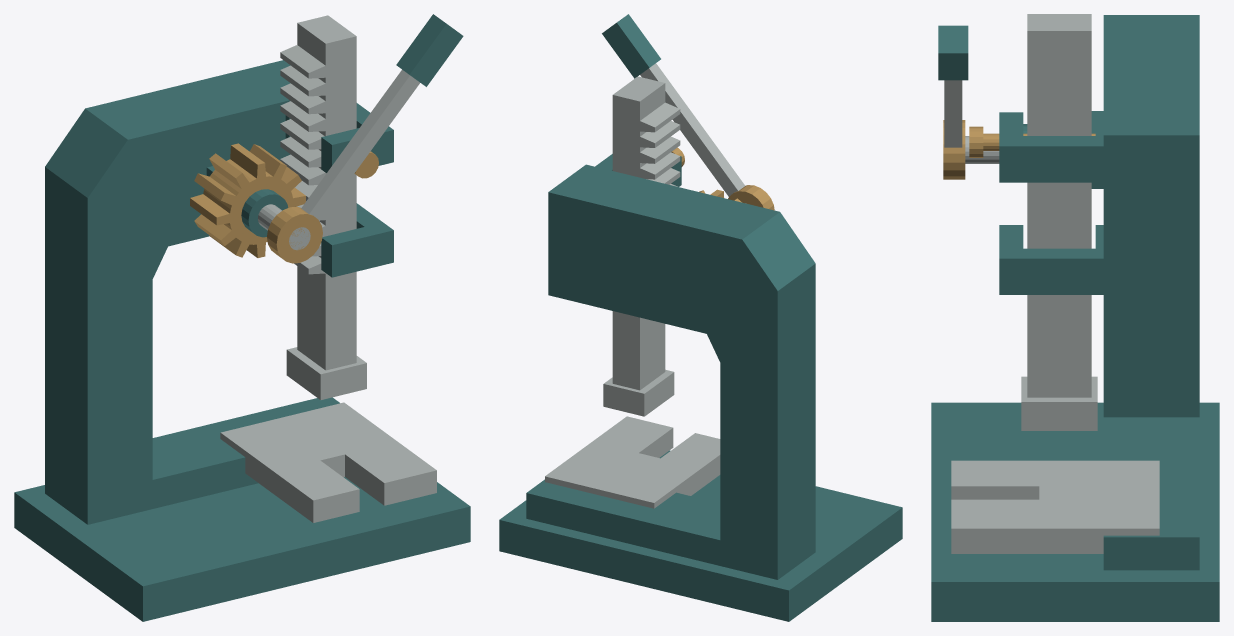
3 renders of one model, left to right at view 1: azimuth 30°, elevation 25°; view 2: azimuth 150°, elevation 25°; view 3: azimuth 270°, elevation 25°, orthographic. The views are drawn at different scales.
Parts seen in each view (by area): view 1: WholeOpenThroatCCasting, WholeGroundedPressFoot, WholeIntegralToothedVerticalRam, WholeSlottedLowerAnvil, WholeTwelveToothPinion, WholeLongFixedActuatingHandle, LowerWholeOpenRamGuide, WholeFlatRamNose, WholeLongHandleGrip, WholeLeverHub, UpperWholeOpenRamGuide, WholeFrontBearingCollar (+1 smaller); view 2: WholeOpenThroatCCasting, WholeGroundedPressFoot, WholeSlottedLowerAnvil, WholeIntegralToothedVerticalRam, WholeLongFixedActuatingHandle, WholeFlatRamNose, WholeLongHandleGrip, WholeLeverHub; view 3: WholeOpenThroatCCasting, WholeGroundedPressFoot, WholeIntegralToothedVerticalRam, WholeSlottedLowerAnvil, LowerWholeOpenRamGuide, UpperWholeOpenRamGuide, WholeFlatRamNose, WholeLongHandleGrip, WholeLongFixedActuatingHandle, WholeLeverHub, WholeRamRetainingPinFrontCap, WholePinionAxle.
Boxes of the visible parts, x1,y1,x2,y2 form: WholeOpenThroatCCasting: (45, 60, 339, 524); WholeGroundedPressFoot: (14, 477, 470, 621); WholeIntegralToothedVerticalRam: (280, 15, 356, 370); WholeSlottedLowerAnvil: (220, 402, 436, 522); WholeTwelveToothPinion: (190, 143, 305, 257); WholeLongFixedActuatingHandle: (301, 69, 419, 221); LowerWholeOpenRamGuide: (321, 203, 393, 277); WholeFlatRamNose: (286, 347, 366, 399); WholeLongHandleGrip: (396, 14, 463, 86); WholeLeverHub: (267, 206, 322, 263); UpperWholeOpenRamGuide: (285, 103, 393, 172); WholeFrontBearingCollar: (241, 189, 288, 237); WholeOpenThroatCCasting: (526, 164, 815, 579); WholeGroundedPressFoot: (499, 450, 902, 621); WholeSlottedLowerAnvil: (545, 416, 720, 508); WholeIntegralToothedVerticalRam: (612, 76, 680, 390); WholeLongFixedActuatingHandle: (640, 63, 744, 196); WholeFlatRamNose: (603, 369, 674, 416); WholeLongHandleGrip: (602, 14, 660, 78); WholeLeverHub: (728, 185, 774, 210); WholeOpenThroatCCasting: (1103, 15, 1199, 570); WholeGroundedPressFoot: (931, 402, 1219, 621); WholeIntegralToothedVerticalRam: (1027, 14, 1091, 397); WholeSlottedLowerAnvil: (951, 460, 1159, 553); LowerWholeOpenRamGuide: (999, 225, 1119, 294); UpperWholeOpenRamGuide: (999, 112, 1119, 182); WholeFlatRamNose: (1021, 376, 1097, 430); WholeLongHandleGrip: (938, 25, 968, 80); WholeLongFixedActuatingHandle: (944, 80, 962, 147); WholeLeverHub: (943, 120, 965, 179); WholeRamRetainingPinFrontCap: (969, 126, 983, 157); WholePinionAxle: (965, 136, 999, 163).
Size of the model in its own units: 1.06 by 1.61 by 0.72.
